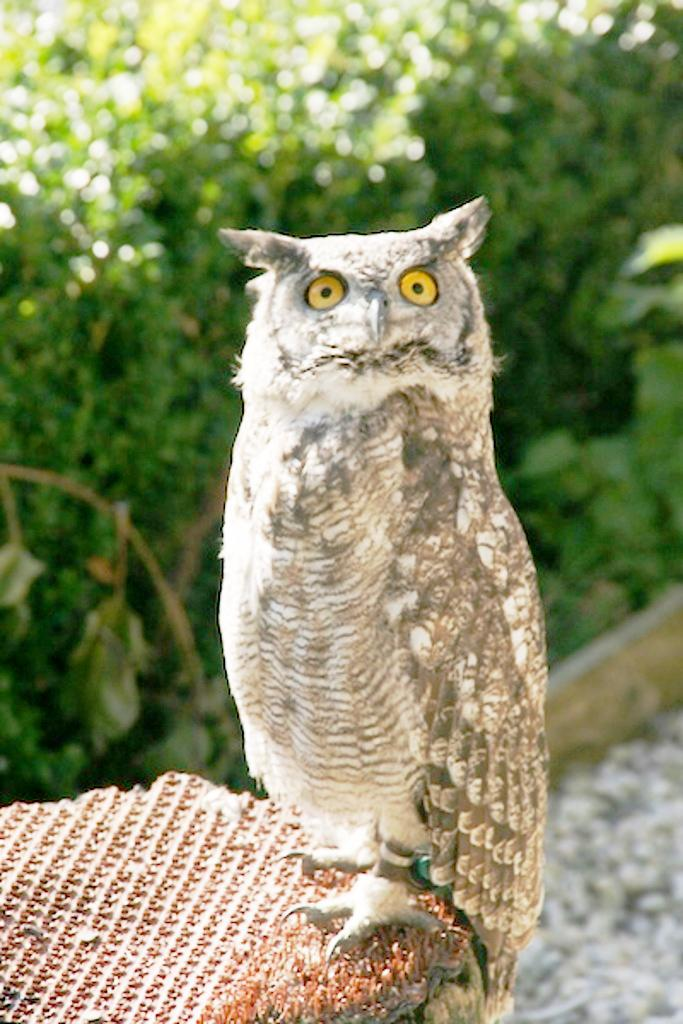Owl: (217, 198, 548, 1024)
